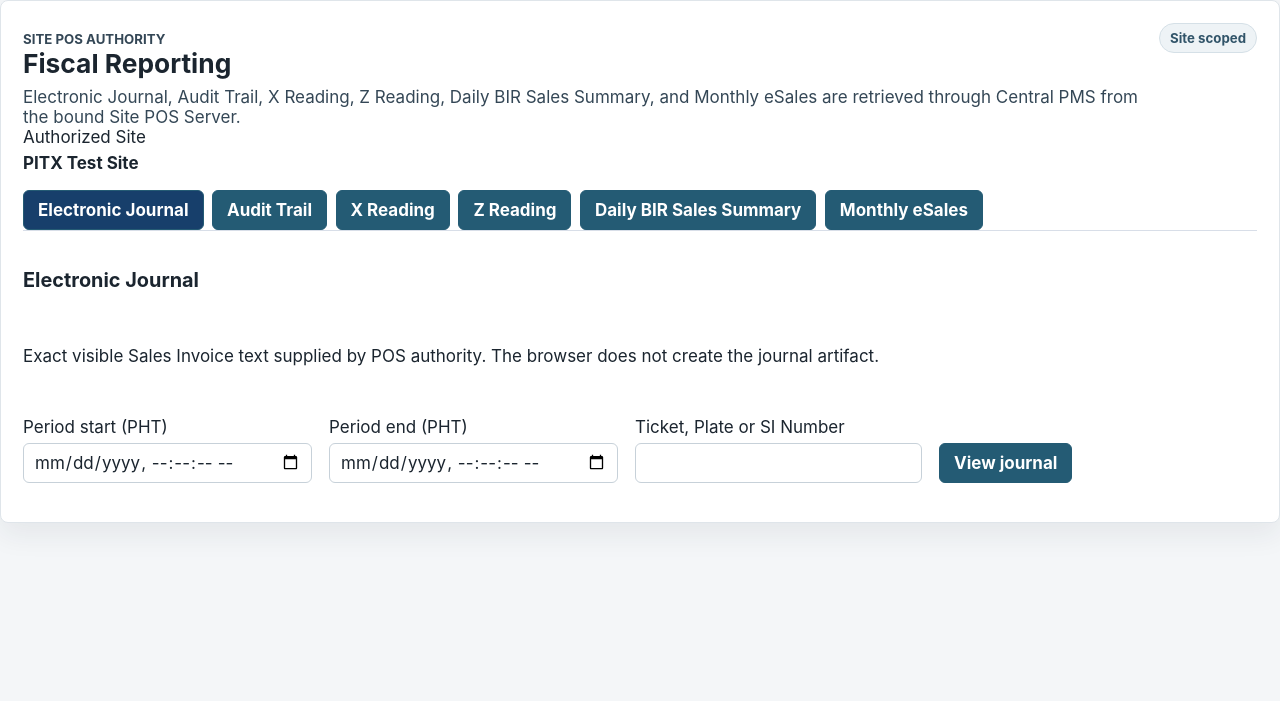
Test: Operator Console fiscal reporting › keeps EJ, X history, Z history, and open dates available when there is no current X period
Type "2026-09-10T00:00" into the field named "EJ period start PHT". click: (168, 463)
box: [23,443,312,483]
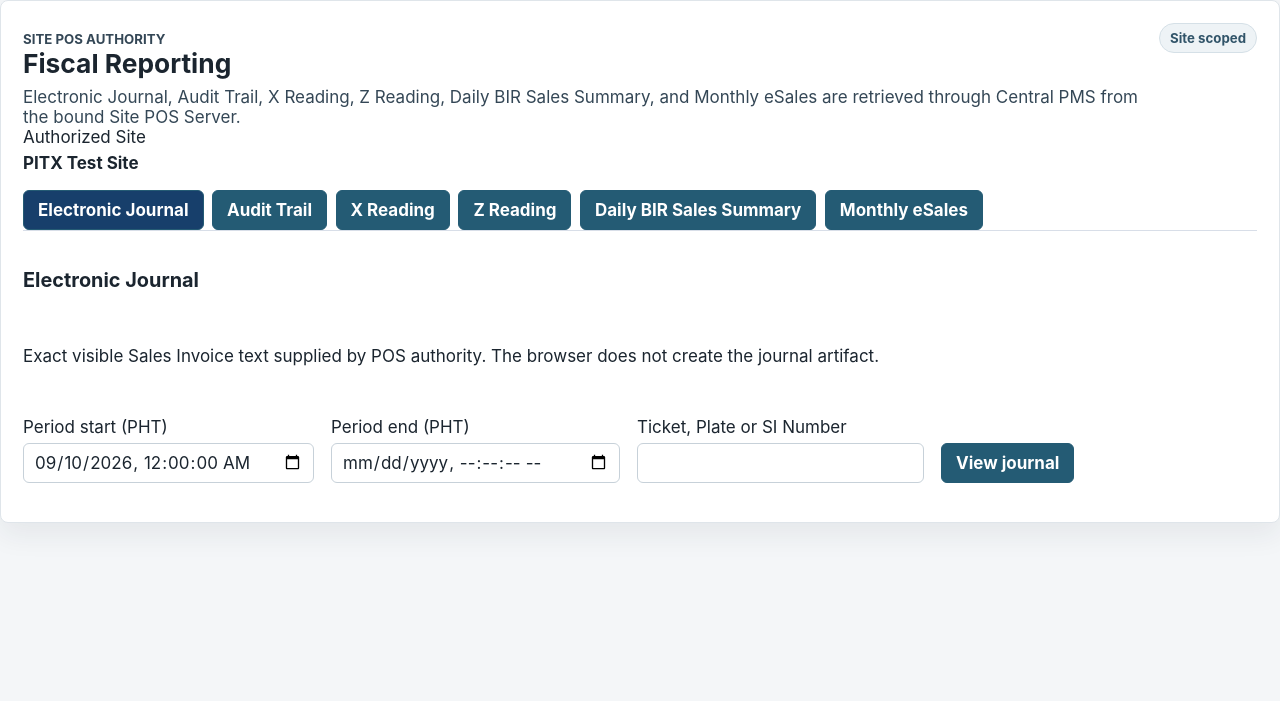
Type "2026-09-11T00:00" into the field named "EJ period end PHT". click: (476, 463)
box: [331,443,620,483]
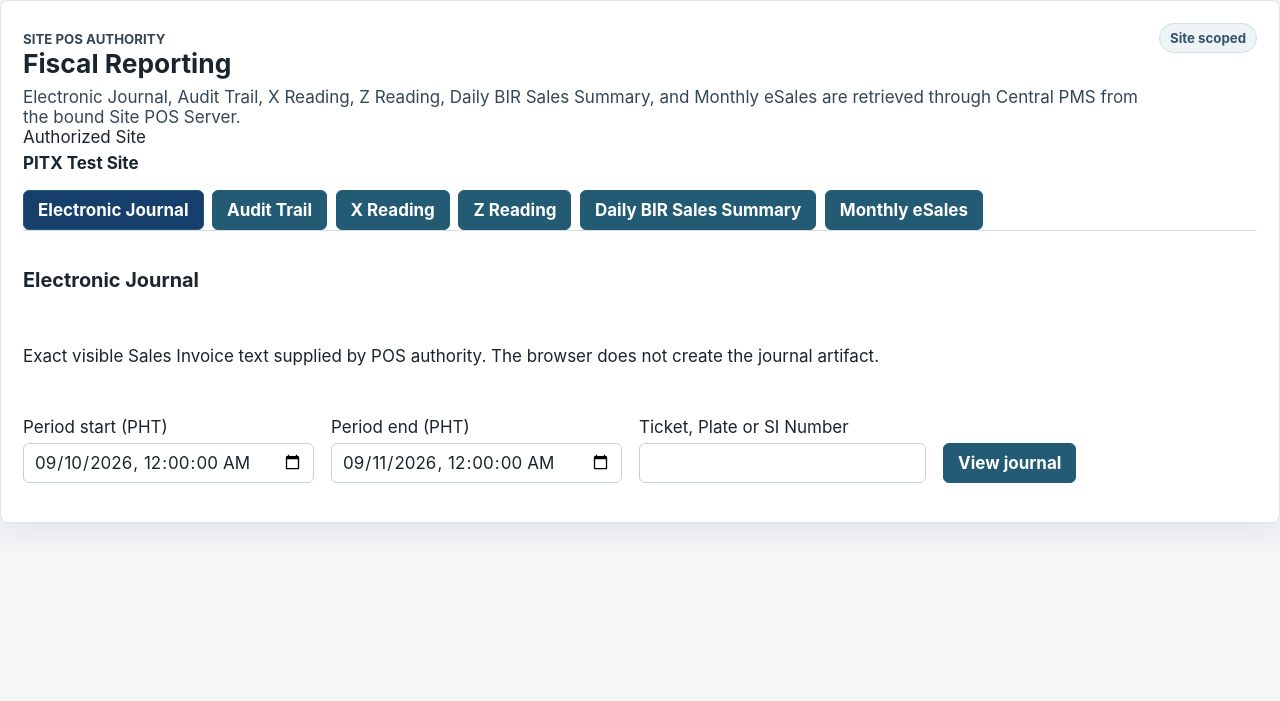
Click the button "View journal". click: (1010, 463)
box: [943,443,1076,483]
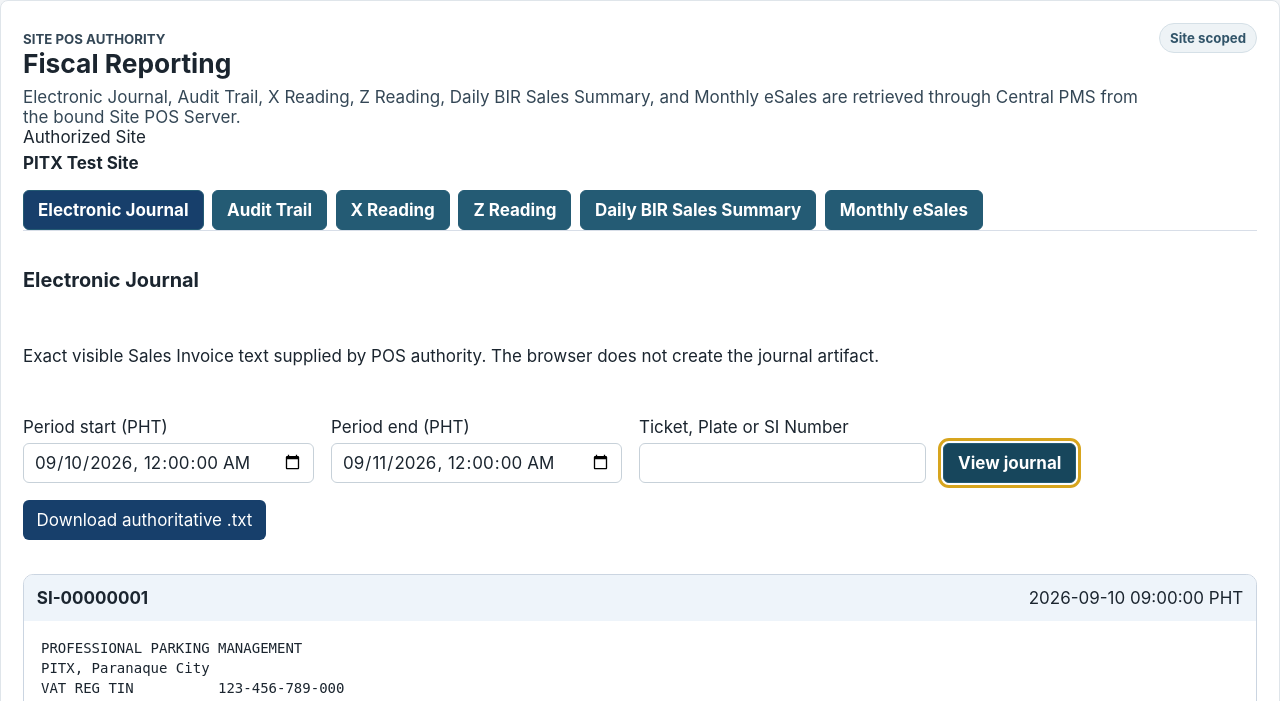
expect the text "SI-00000001" is shown: met, box [37,588,148,608]
Click the tab "X Reading". click: (393, 210)
box: [336,190,450,230]
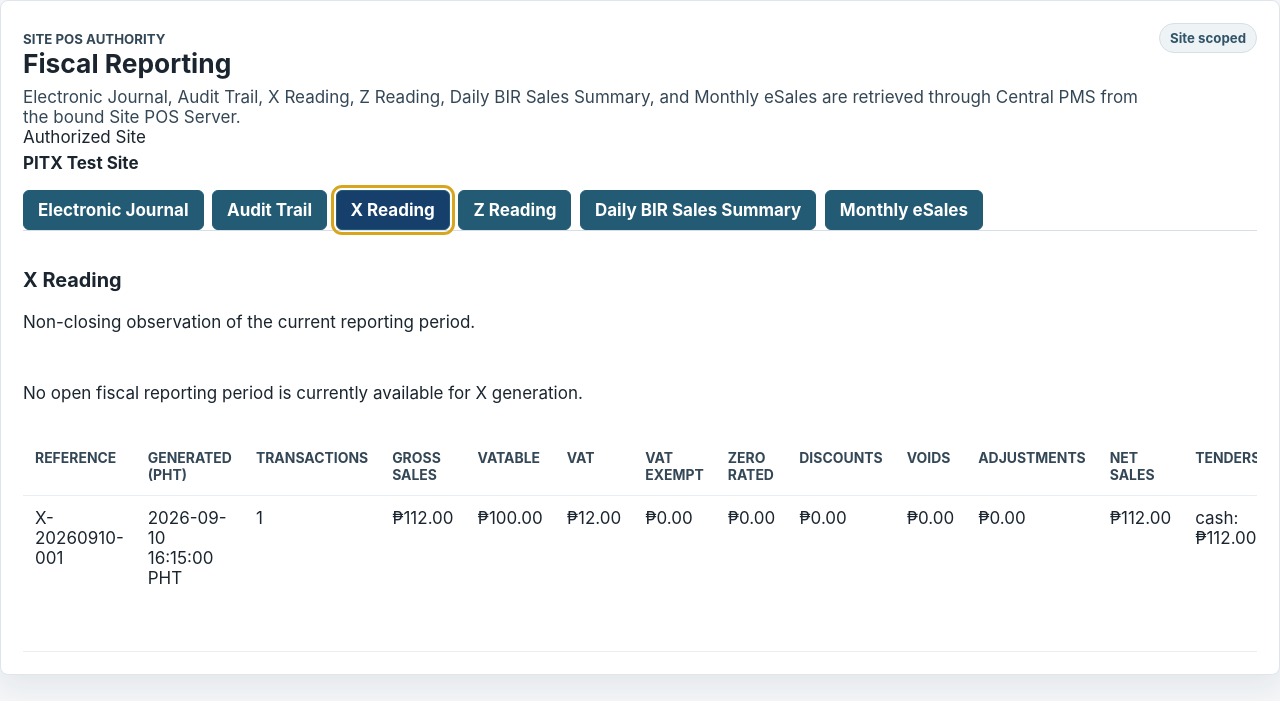
expect the text "X-20260910-001" is shown: met, box [23,495,136,651]
expect the text "No open fiscal reporting period is currently available for X generation." is shown: met, box [23,383,583,403]
Click the tab "Z Reading". click: (515, 210)
box: [458,190,572,230]
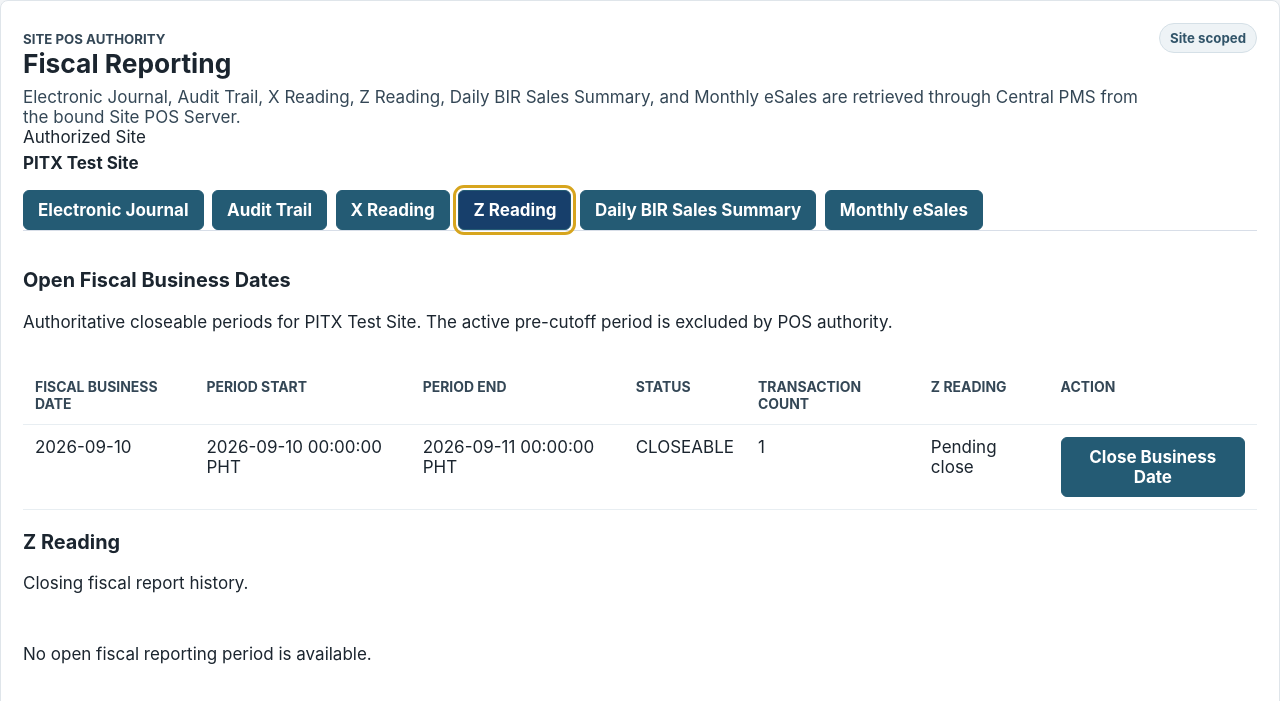
expect the heading "Open Fiscal Business Dates" is shown: met, box [23,268,291,292]
expect the button "Close Business Date" is shown: met, box [1061,437,1245,497]
